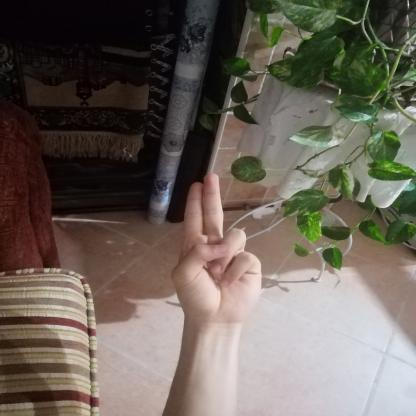TA: (158, 160, 274, 330)
